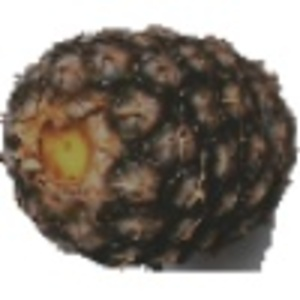abacaxi: (1, 17, 295, 275)
